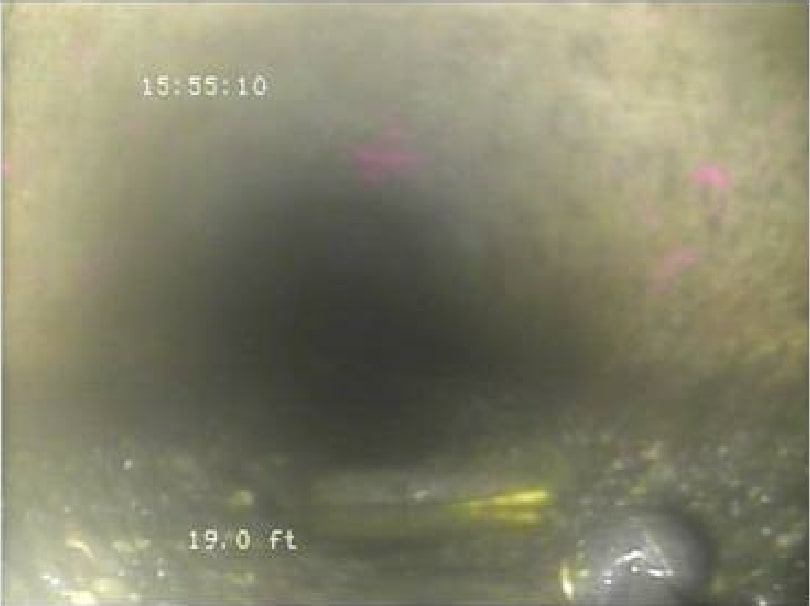cb: (216, 436, 573, 539)
